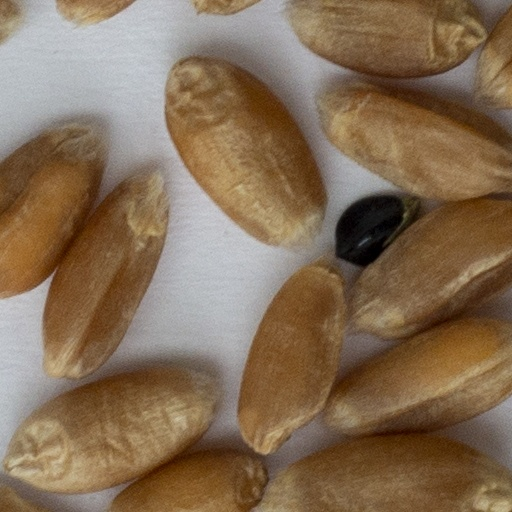Fallopia-Convolvulus-poly: (337, 196, 410, 263)
